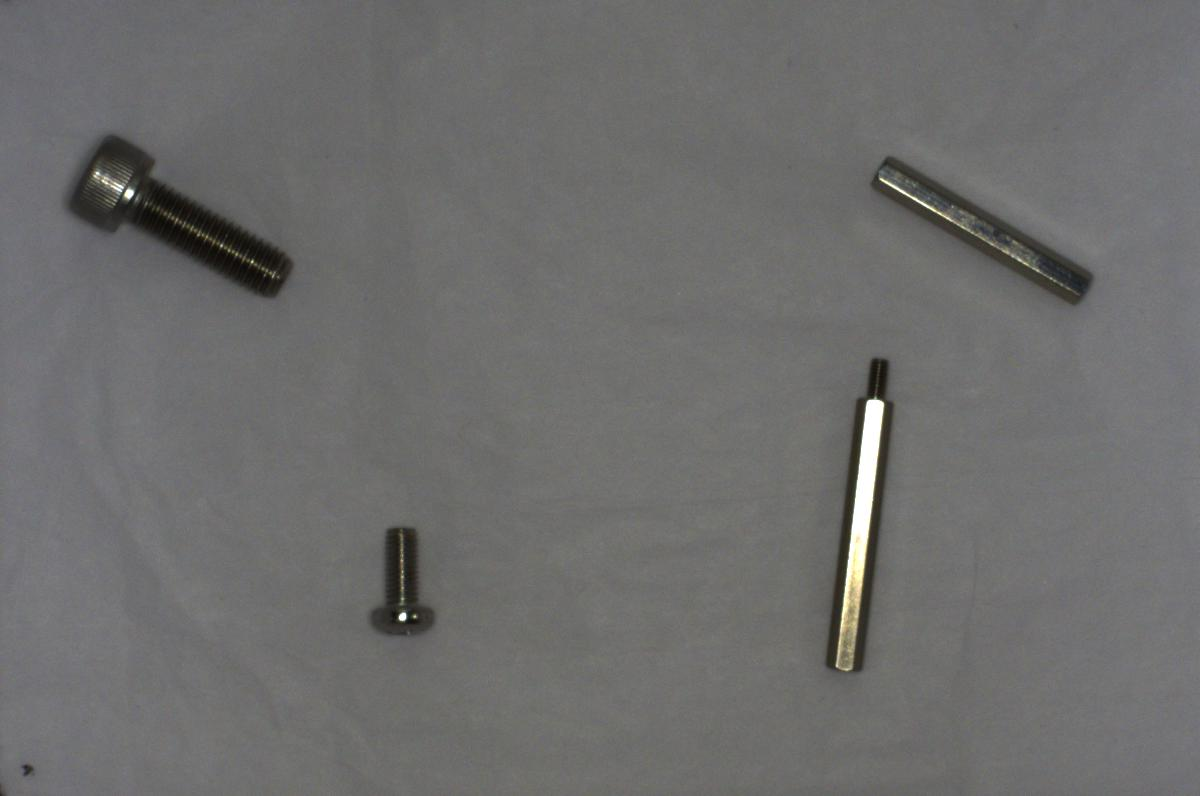Double hexagonal column: (858, 152, 1102, 306)
Hexagon screw: (53, 127, 299, 305)
Hexagonal steel column: (822, 350, 887, 676)
Round head screw: (360, 512, 439, 646)
